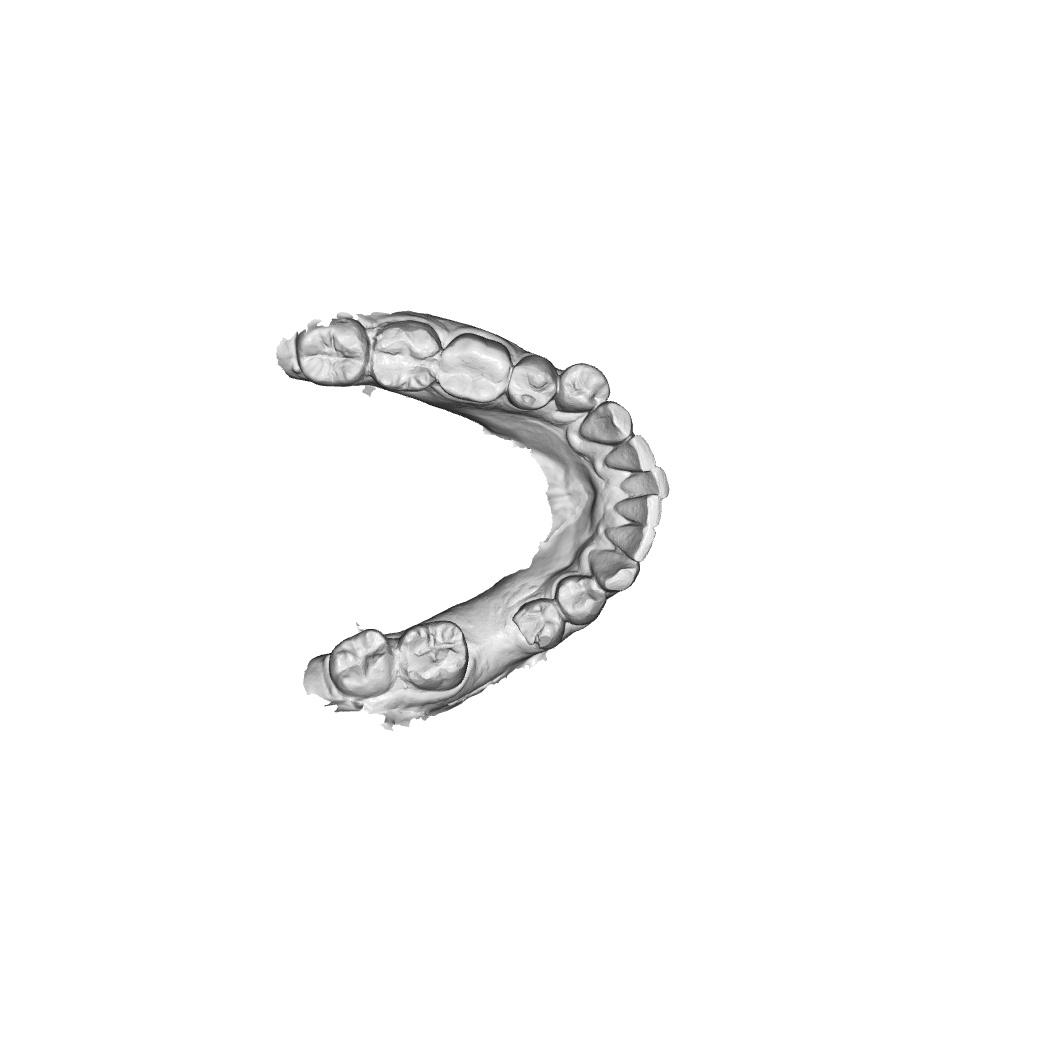canine: (578, 399, 635, 447), (588, 548, 641, 594)
incisor: (603, 433, 658, 474), (603, 523, 657, 563), (612, 493, 662, 529), (620, 465, 671, 500)
molar: (368, 319, 444, 394), (438, 331, 512, 406), (396, 618, 469, 694), (294, 316, 371, 388), (327, 626, 397, 701)
premolar: (555, 361, 613, 414), (511, 597, 566, 652), (507, 354, 559, 412), (553, 573, 609, 626)
